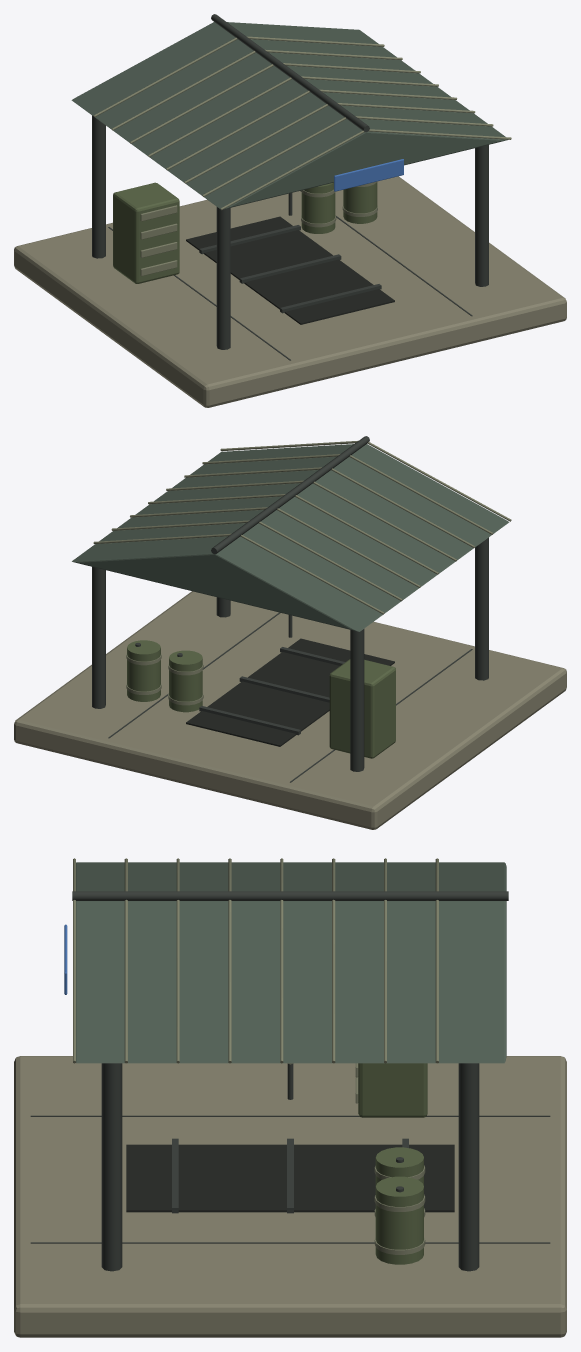
Rendered from repairbay.glb.
The picture shows the model from 3 angles, top to bottom: view 1: azimuth 30°, elevation 25°; view 2: azimuth 150°, elevation 25°; view 3: azimuth 270°, elevation 25°; orthographic projection. The views are drawn at different scales.
Visible parts, largest first — view 1: Concrete, RoofMetal, Steel, Tracks, EdgeSteel, Armor, TeamColor; view 2: Concrete, RoofMetal, Steel, Armor, Tracks, EdgeSteel; view 3: Concrete, RoofMetal, Tracks, Steel, Armor, EdgeSteel.
Part boxes in pixels (x1=…): Concrete: x1=14, y1=176, x2=566, y2=407; RoofMetal: x1=71, y1=22, x2=508, y2=209; Steel: x1=92, y1=14, x2=488, y2=360; Tracks: x1=186, y1=216, x2=394, y2=324; EdgeSteel: x1=93, y1=36, x2=511, y2=276; Armor: x1=113, y1=182, x2=377, y2=283; TeamColor: x1=334, y1=159, x2=403, y2=191; Concrete: x1=14, y1=591, x2=566, y2=829; RoofMetal: x1=72, y1=444, x2=509, y2=631; Steel: x1=92, y1=436, x2=488, y2=782; Armor: x1=127, y1=640, x2=395, y2=758; Tracks: x1=186, y1=638, x2=394, y2=746; EdgeSteel: x1=93, y1=440, x2=511, y2=705; Concrete: x1=14, y1=1056, x2=566, y2=1337; RoofMetal: x1=76, y1=862, x2=506, y2=1063; Tracks: x1=126, y1=1144, x2=454, y2=1212; Steel: x1=30, y1=891, x2=550, y2=1271; Armor: x1=358, y1=1063, x2=427, y2=1264; EdgeSteel: x1=73, y1=858, x2=438, y2=1254.
Bounding box in the file's own units: 5.2 × 3.08 × 4.8.
